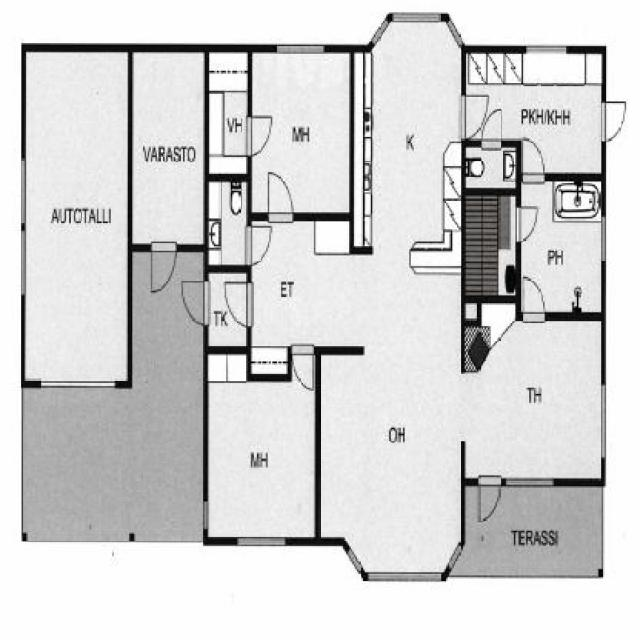door: (222, 278, 256, 331), (597, 100, 629, 152), (268, 169, 297, 226), (151, 240, 178, 298), (522, 138, 548, 197), (523, 277, 549, 334), (457, 94, 489, 138), (512, 206, 543, 251), (180, 279, 209, 326), (477, 476, 501, 532), (474, 106, 504, 148), (243, 228, 274, 266), (246, 117, 271, 158)
window: (366, 569, 440, 585), (237, 531, 286, 551), (20, 160, 26, 295), (600, 382, 609, 462), (392, 9, 440, 23), (369, 13, 389, 44), (598, 216, 610, 262), (277, 43, 326, 54), (448, 18, 462, 52), (525, 44, 566, 54), (348, 548, 363, 575), (504, 480, 554, 486), (202, 498, 208, 531)
zone: (248, 217, 470, 585), (28, 249, 203, 543), (352, 8, 482, 288), (26, 49, 126, 378), (462, 300, 598, 477), (208, 354, 314, 535), (466, 52, 600, 171), (252, 51, 348, 209), (454, 485, 606, 580), (130, 54, 202, 245), (520, 184, 602, 310), (466, 195, 516, 294), (209, 51, 246, 172), (209, 182, 246, 263), (209, 270, 248, 344), (466, 148, 514, 185)
